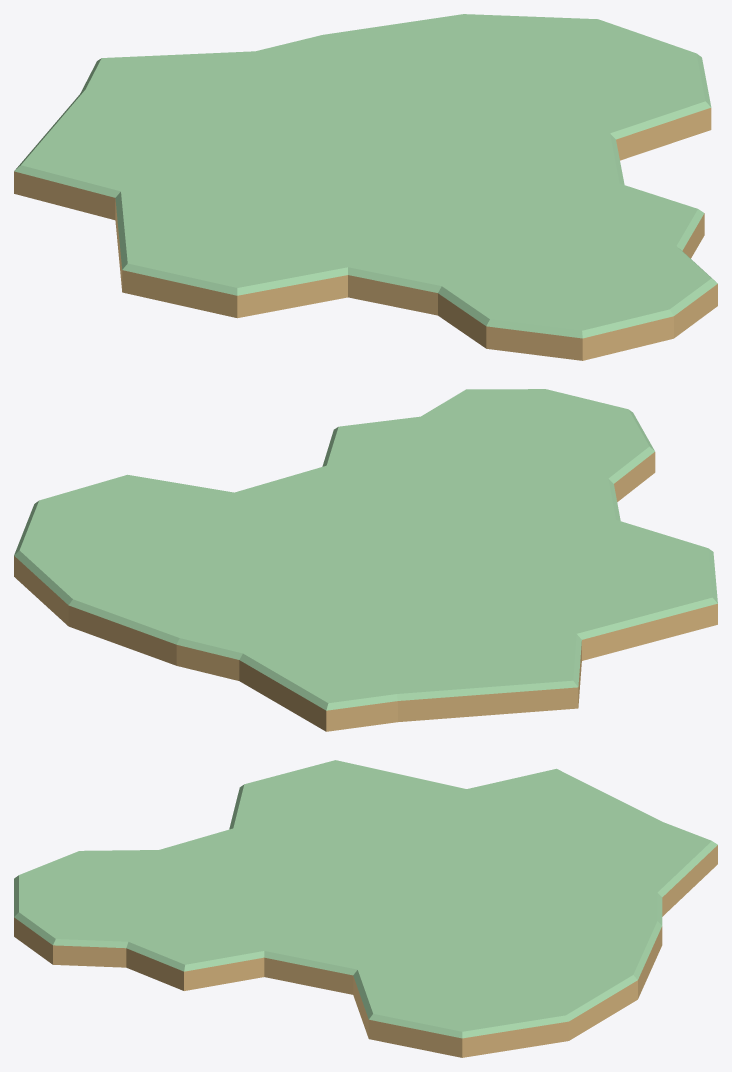
File: Ilha02.fbx
3 renders of one model, top to bottom at view 1: azimuth 30°, elevation 25°; view 2: azimuth 150°, elevation 25°; view 3: azimuth 270°, elevation 25°, orthographic. The views are drawn at different scales.
Visible parts, largest first — view 1: Ilha; view 2: Ilha; view 3: Ilha.
Part boxes in pixels (x1=…): Ilha: x1=14, y1=14, x2=717, y2=360; Ilha: x1=14, y1=389, x2=717, y2=731; Ilha: x1=14, y1=760, x2=717, y2=1057.
Bounding box in the file's own units: 1124 × 45.36 × 1210.
